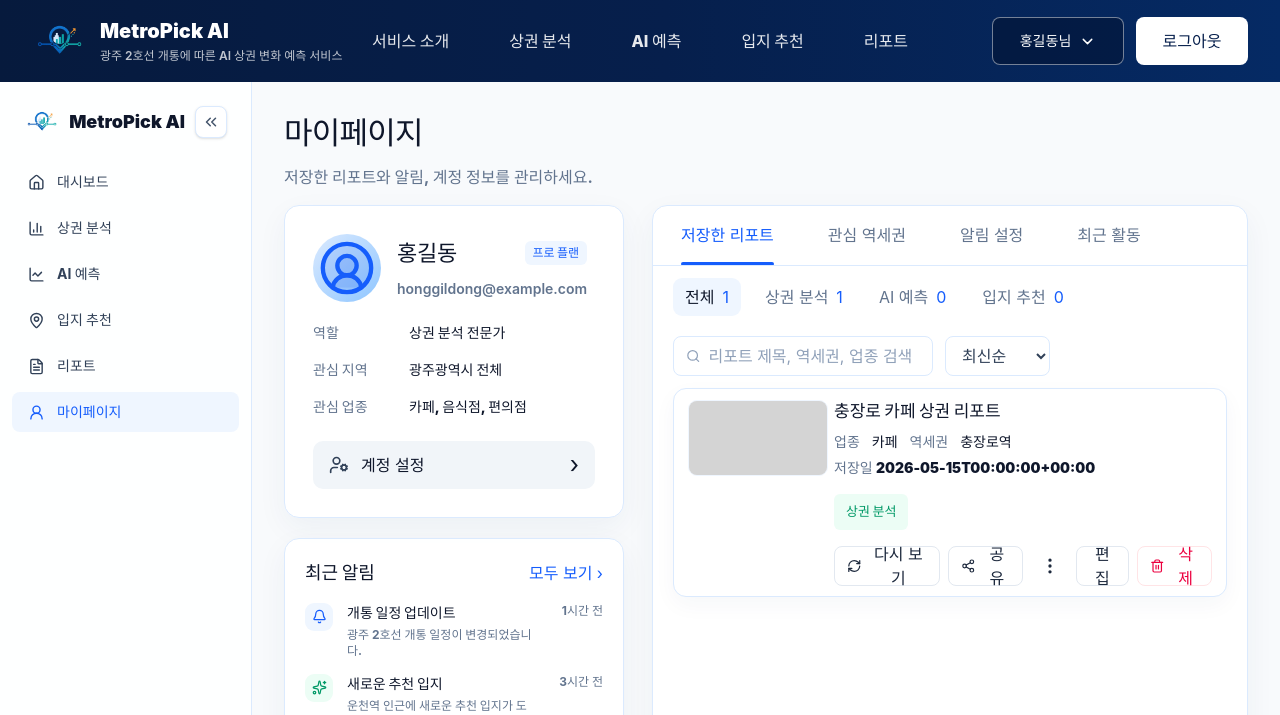
Test: MyPage › deletes backend saved reports through the backend API
Expected: the heading "충장로 카페 상권 리포트" is shown, [834,400,1001,420]
Click the button with aria-label "충장로 카페 상권 리포트 삭제" at (1174, 566), box [1137,546,1212,586]
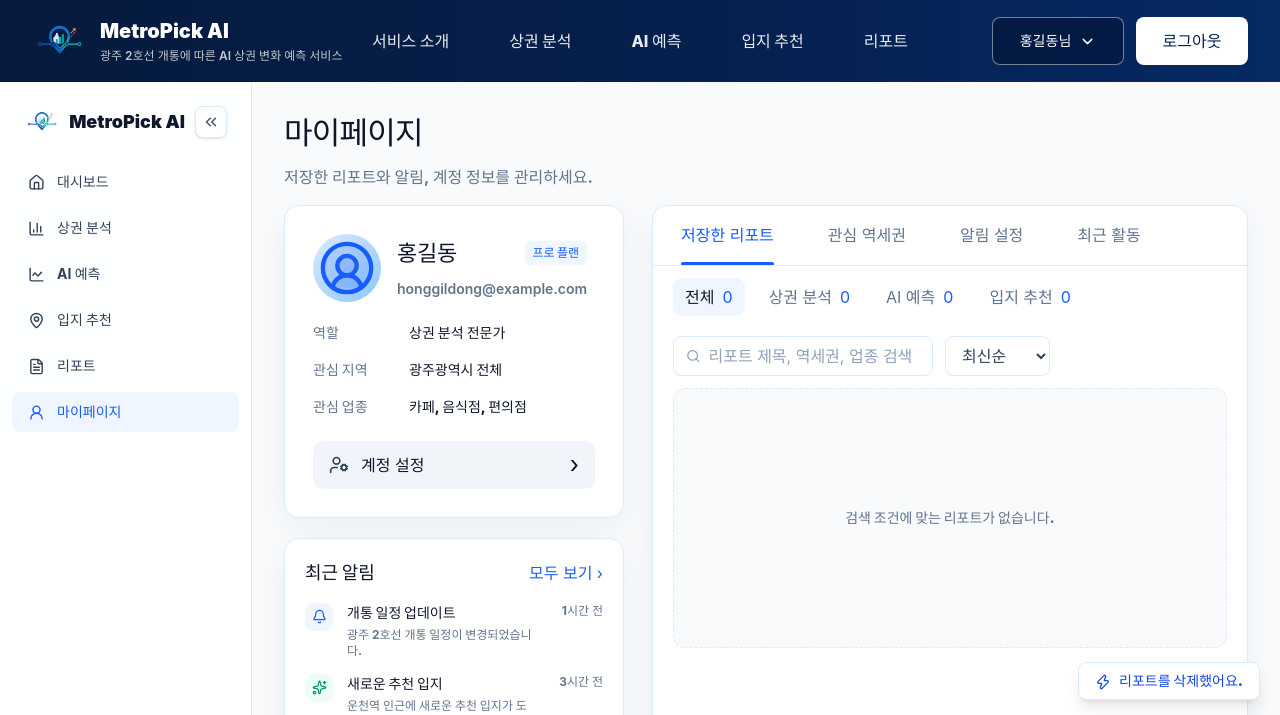
Now the text "리포트를 삭제했어요." is shown, box [1078,662,1260,700]
Now the heading "충장로 카페 상권 리포트" is gone
